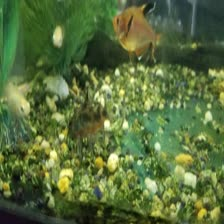Kiros: (50, 87, 124, 154)
Transparente: (104, 0, 168, 57)
